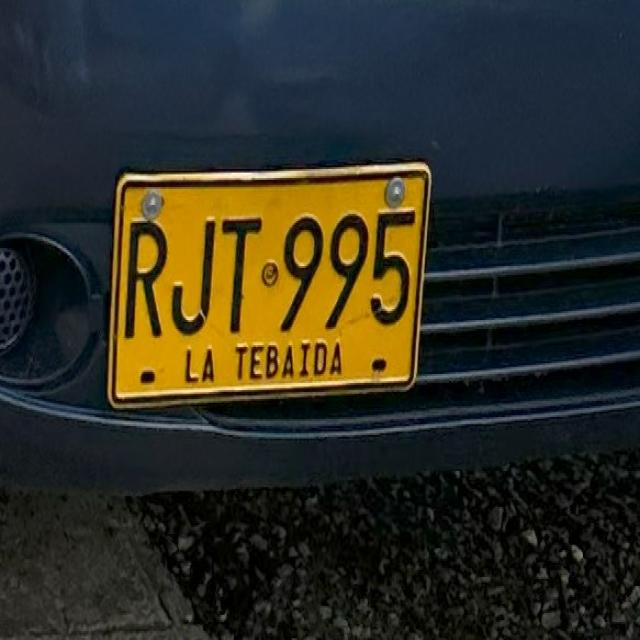number plate: (106, 160, 429, 404)
